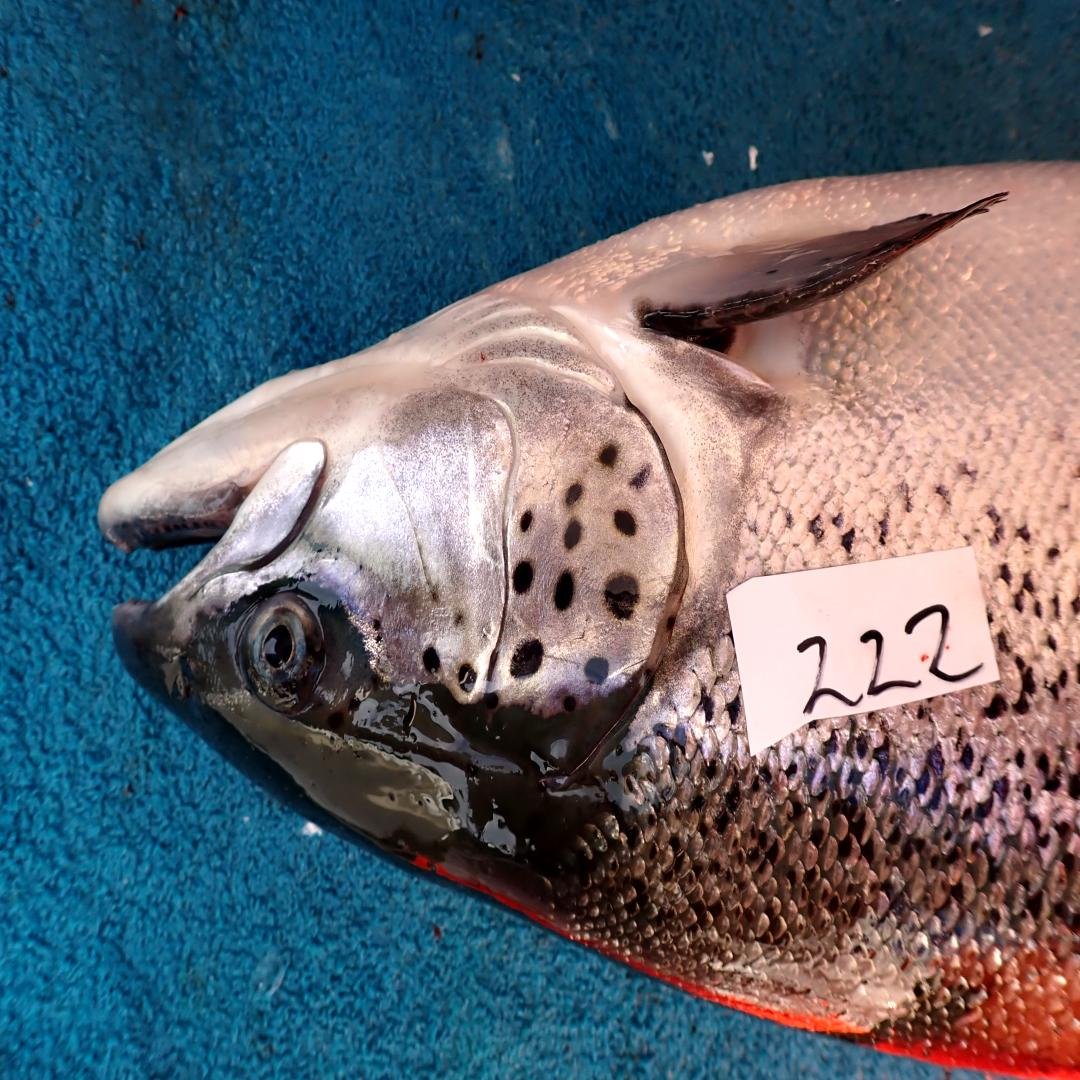roi: (328, 289, 688, 716)
